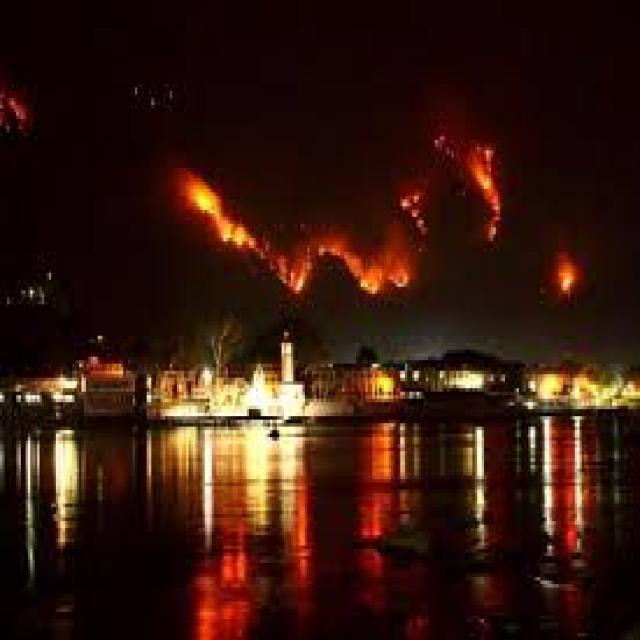Fire: (186, 173, 256, 250), (340, 246, 414, 298), (468, 150, 507, 246), (271, 249, 308, 295), (553, 262, 581, 298)
